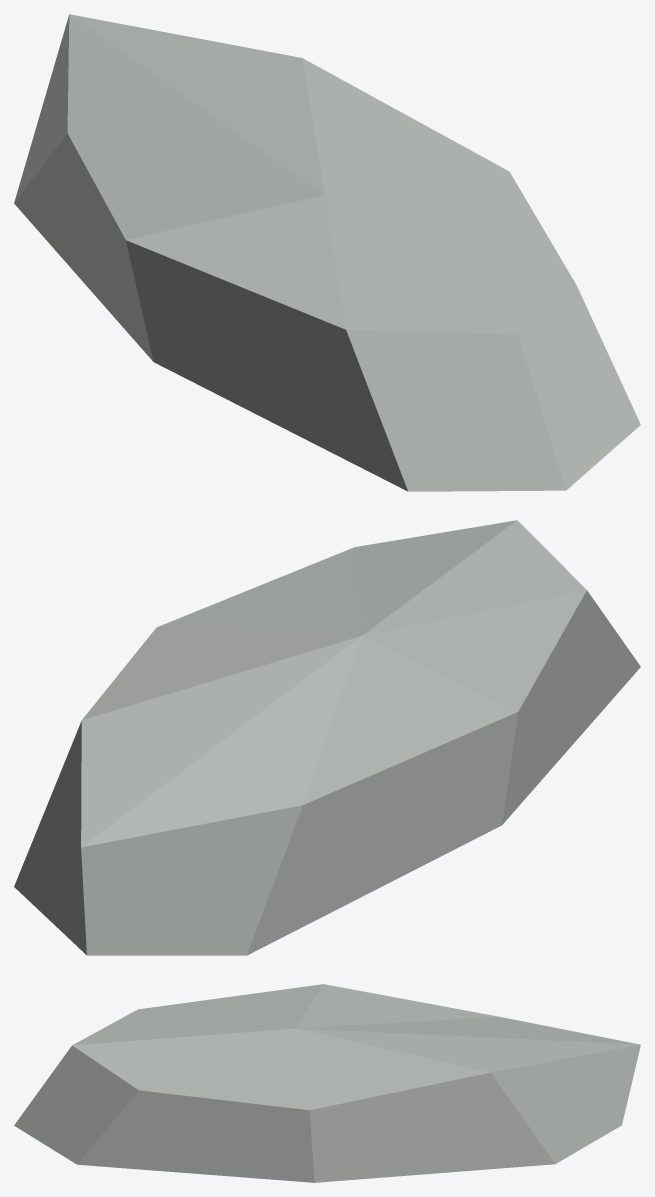
Rendered from rock_3.glb.
The picture shows the model from 3 angles, top to bottom: view 1: azimuth 30°, elevation 25°; view 2: azimuth 150°, elevation 25°; view 3: azimuth 270°, elevation 25°; orthographic projection. The views are drawn at different scales.
Parts seen in each view (by area): view 1: rock_3; view 2: rock_3; view 3: rock_3.
Boxes of the visible parts, bbox=[...] form: rock_3: bbox=[14, 14, 640, 491]; rock_3: bbox=[14, 520, 640, 955]; rock_3: bbox=[14, 984, 640, 1182].
Bounding box in the file's own units: 0.0958 × 0.0347 × 0.215.
1 material, 1 textured.
